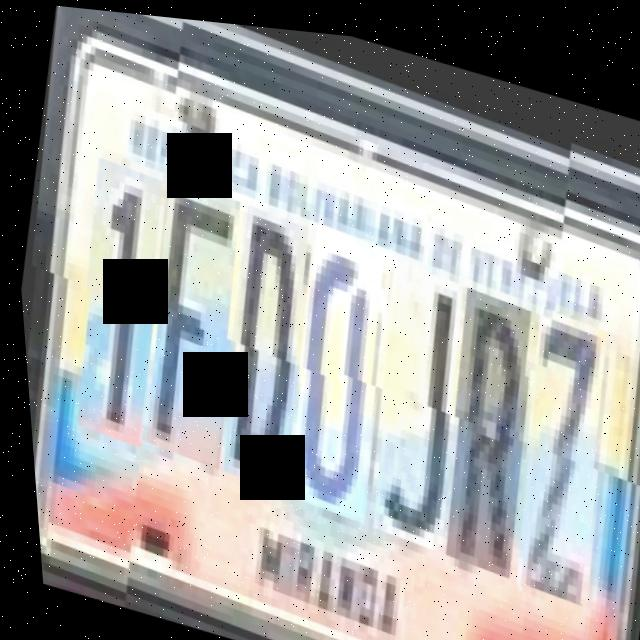0: (261, 215, 408, 515)
1: (48, 143, 186, 441)
D: (193, 192, 332, 489)
F: (116, 166, 263, 466)
J: (343, 243, 485, 540)
R: (415, 267, 553, 565)
Z: (486, 291, 630, 598)
